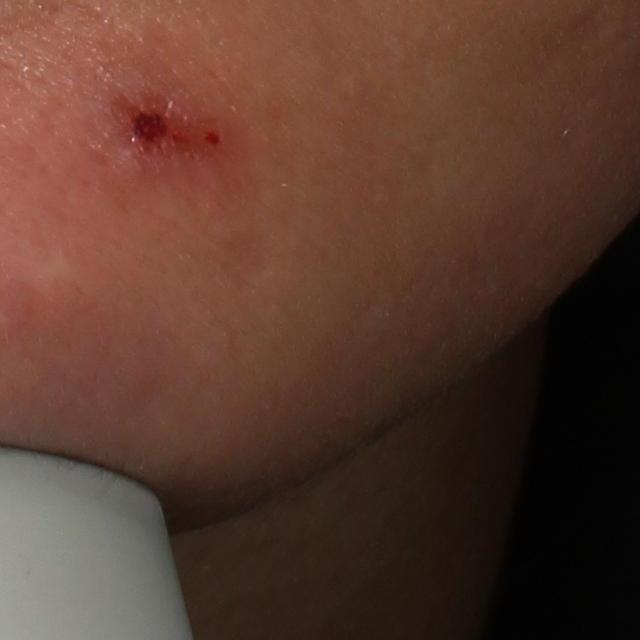papule: (104, 75, 217, 176)
